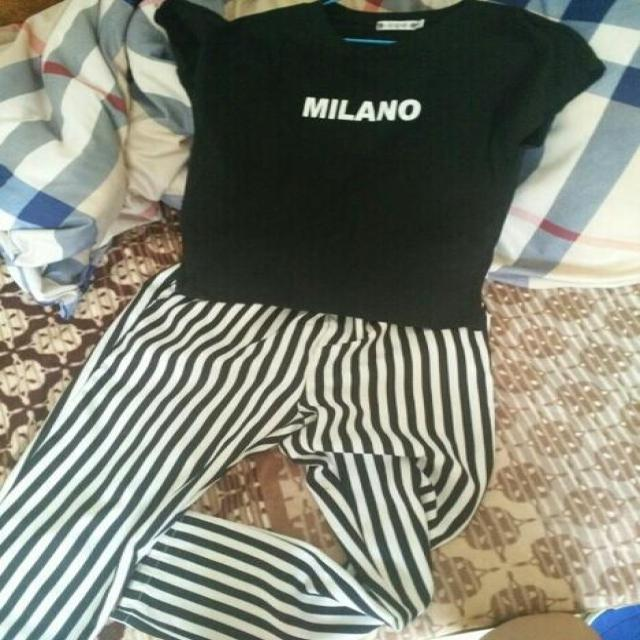short-sleeve-top: (120, 2, 630, 341)
trousers: (52, 348, 542, 614)
